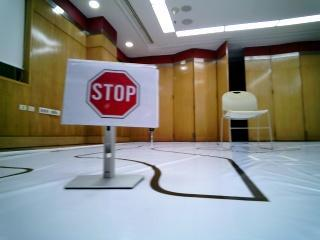stop: (73, 63, 151, 123)
